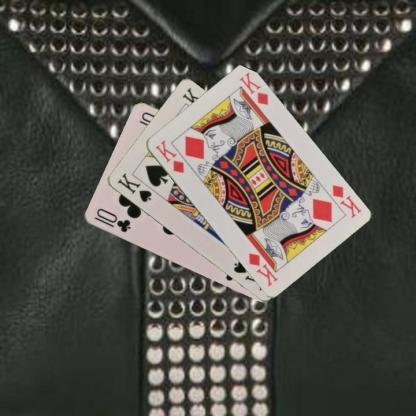10c: (93, 206, 132, 234)
Kd: (329, 182, 363, 220), (152, 137, 185, 174)
Ks: (115, 170, 152, 204)
